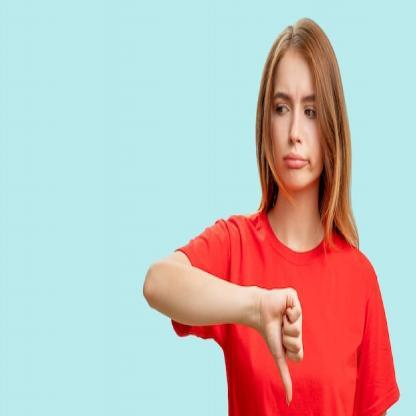thumb_down: (259, 284, 306, 408)
